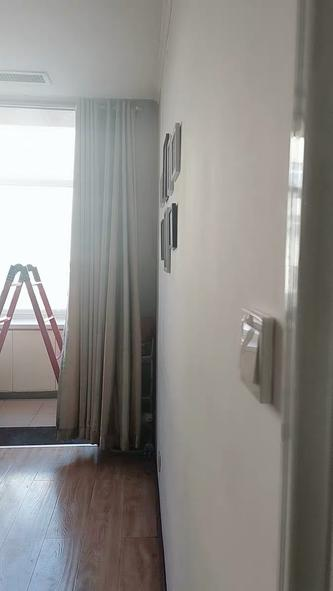switch: (242, 322, 262, 384)
